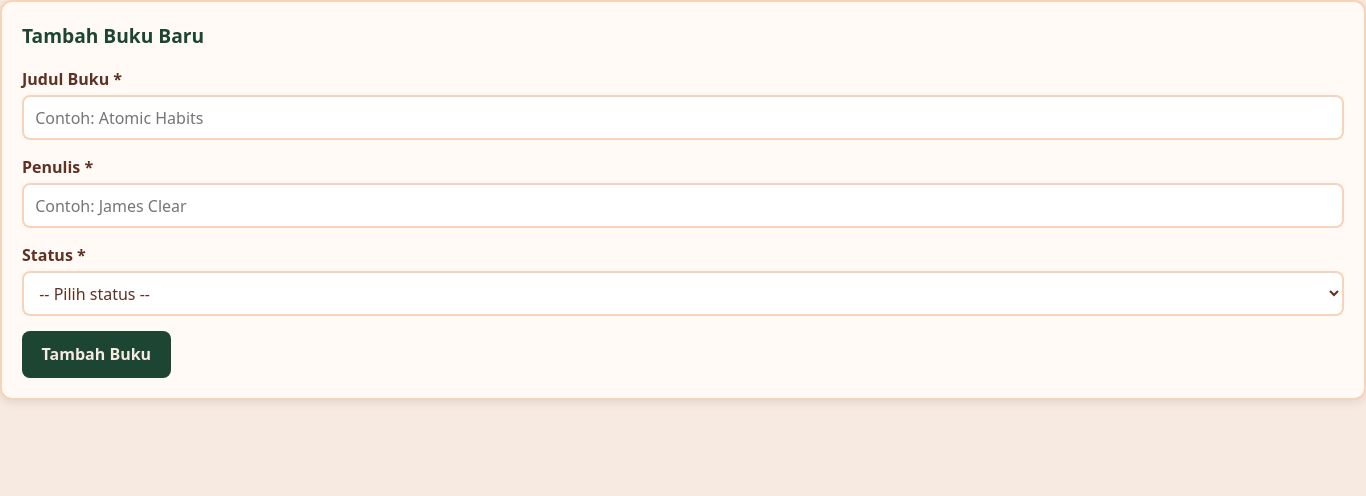
BookForm › menampilkan 3 pesan error dan TIDAK submit jika semua kolom kosong
The image size is (1366, 496).
Click the button "Tambah Buku" at (96, 354), box [22, 331, 171, 378]
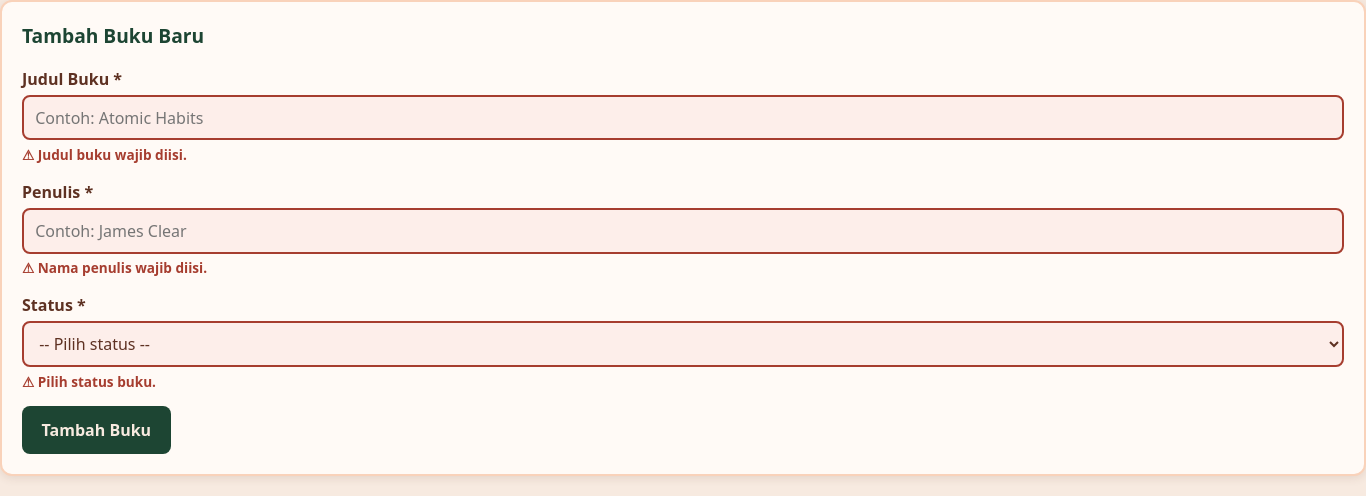
Check: the number of messages is 3, box [22, 145, 187, 164]; [22, 258, 207, 277]; [22, 372, 156, 390]
Check: the text "⚠ Judul buku wajib diisi." is shown, box [22, 145, 187, 164]
